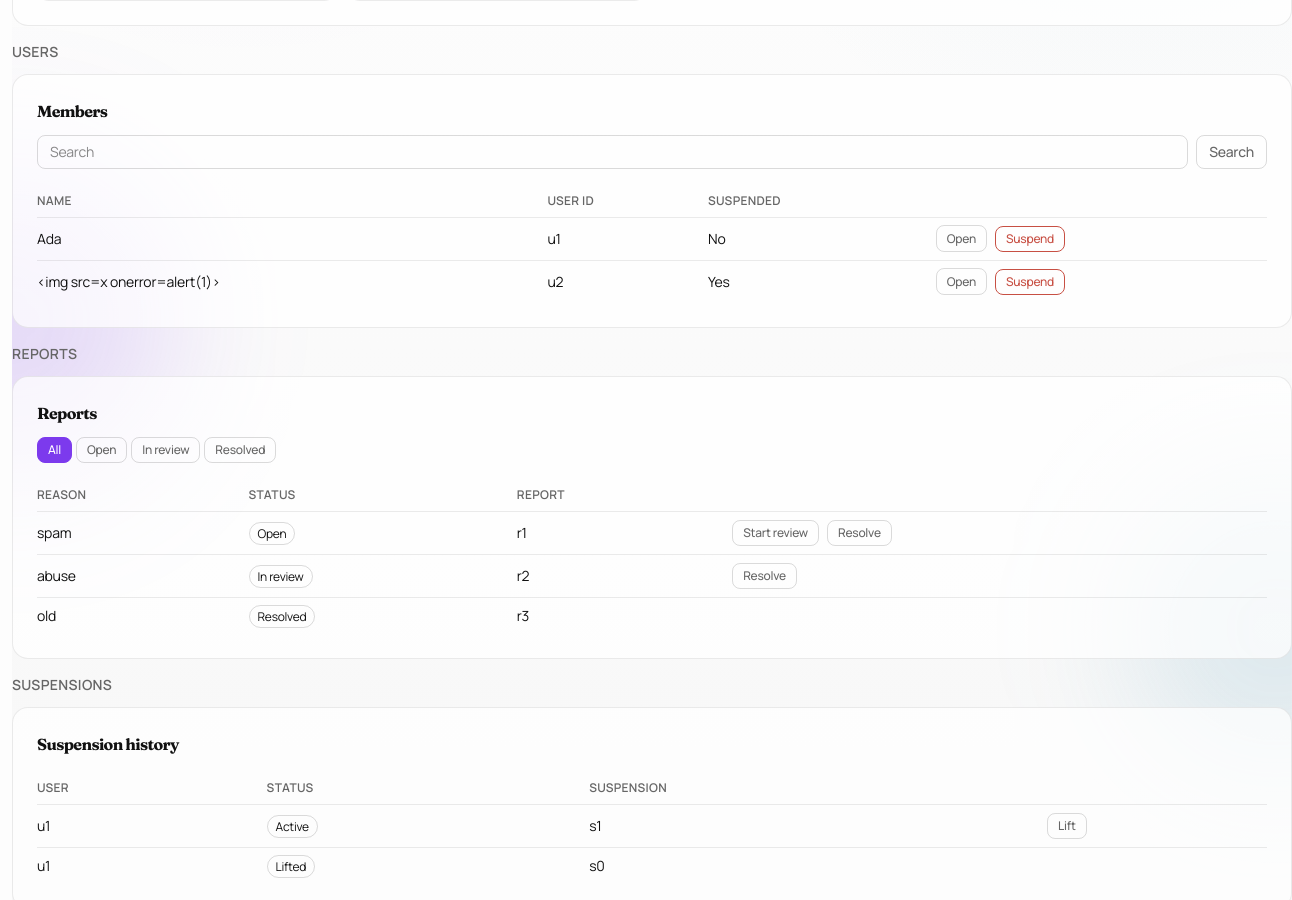
Scenario: OperatorView — reports & suspensions (#240) › labels states, offers each transition only from the states it leaves, and filters by state
The width and height of the screenshot is (1292, 900).
(page scrolled)
Expected: the text "spam" is shown, [37,512,248,554]
Expected: the text "Open" is shown, [248,522,295,545]
Click the button "In review" at (166, 450), box [131,437,200,463]
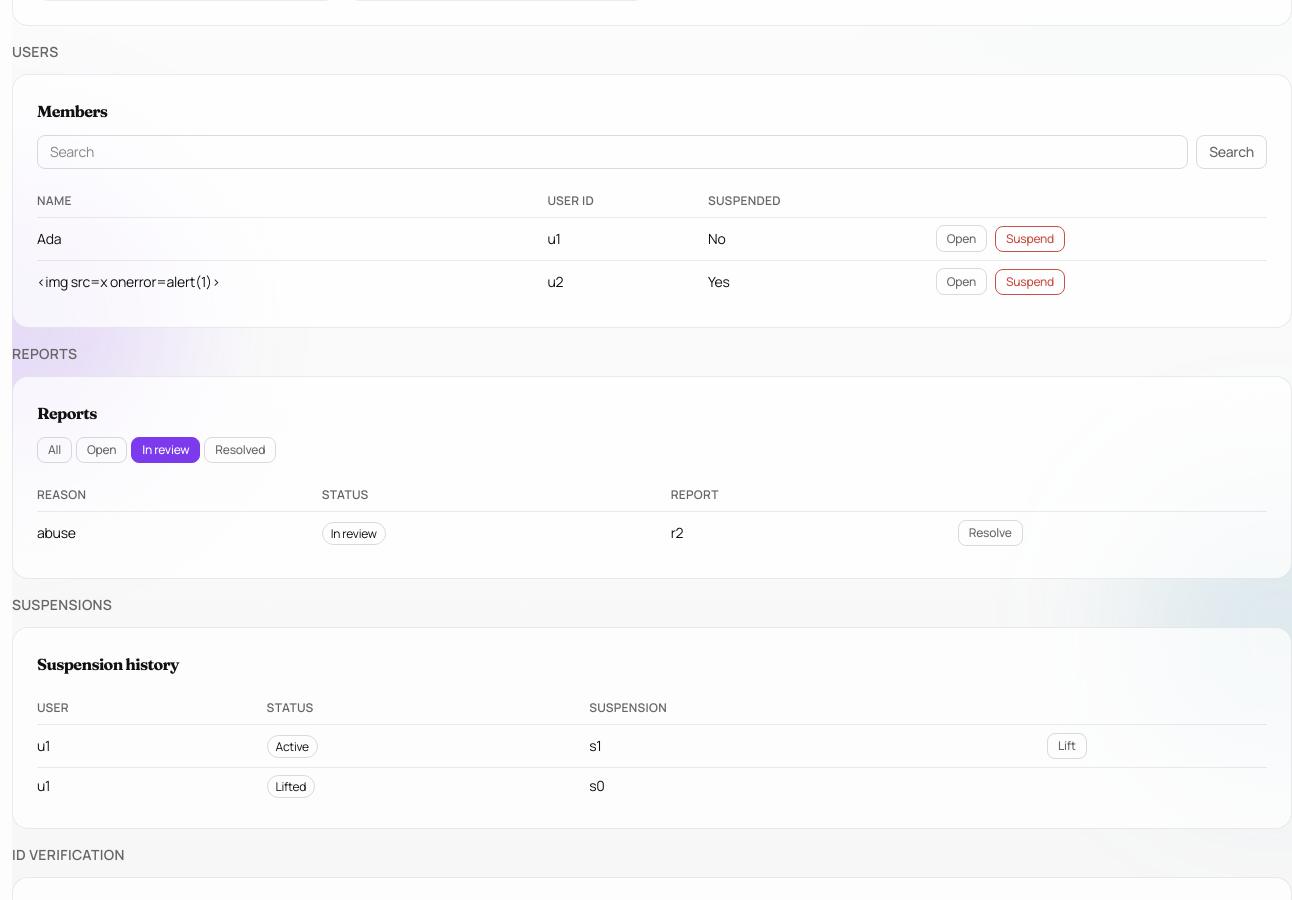
Expected: the text "spam" is gone
